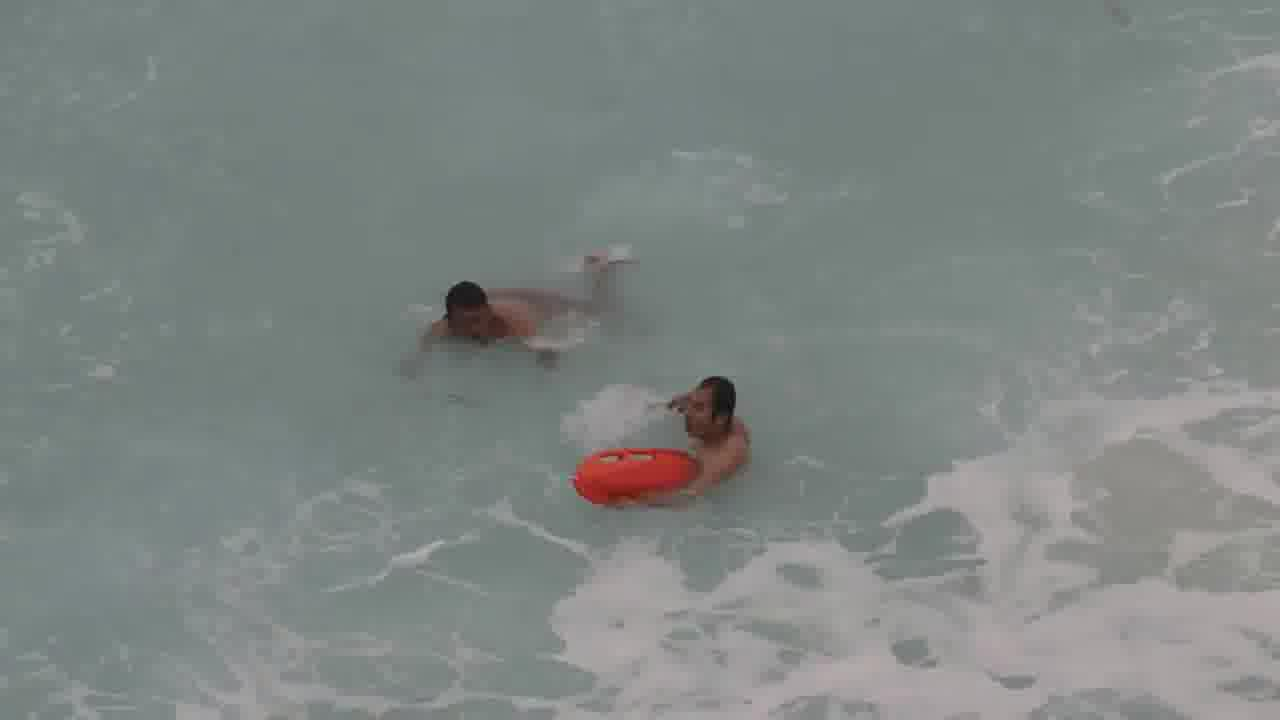human: (427, 262, 509, 351), (669, 365, 746, 459)
